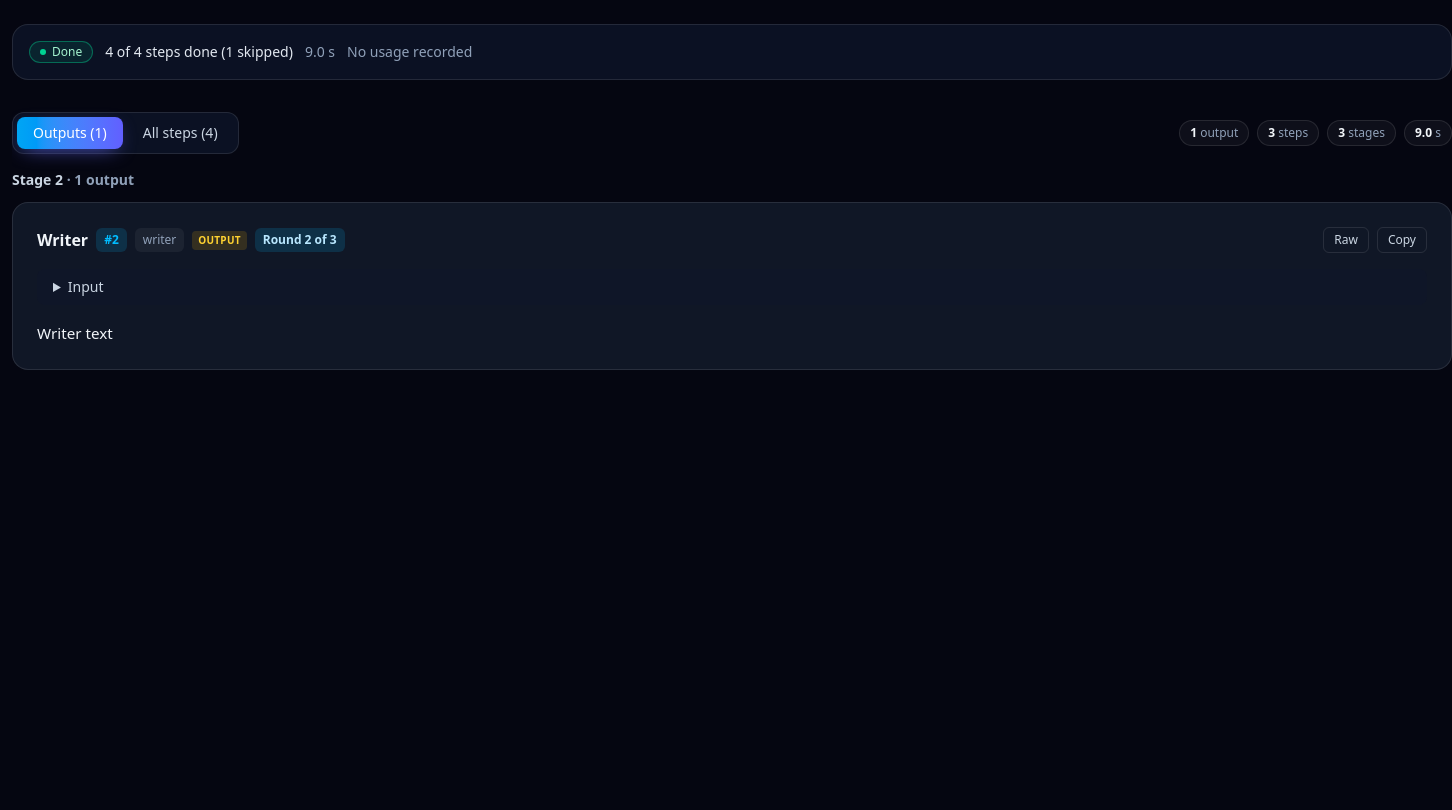
Scenario: LiveRun: review rounds › marks a step that ran again with its round, out of the most it may take
Click the tab "All steps (4)": (180, 133) [127,117,234,149]
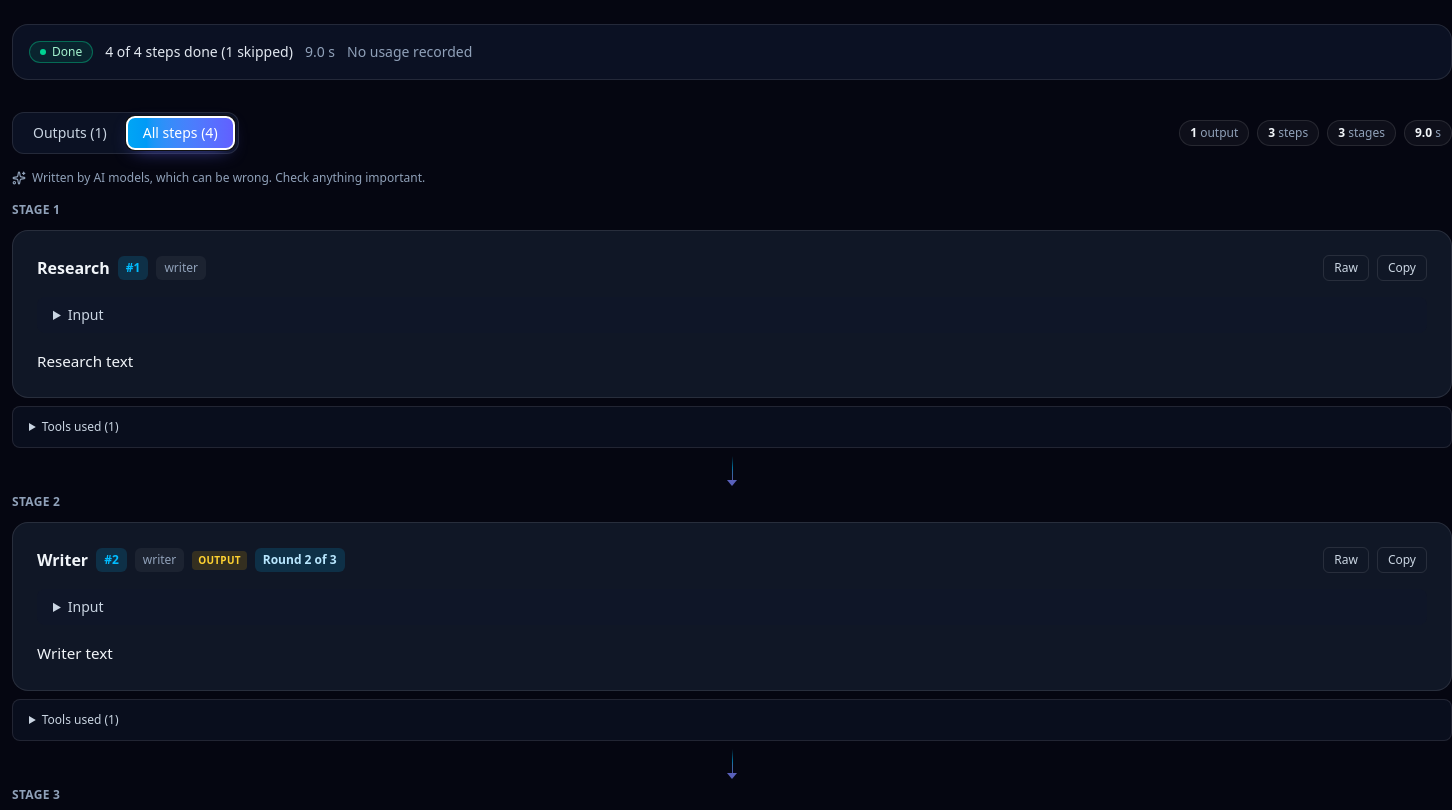
Now the text "Round 2 of 3" is shown 2 times
